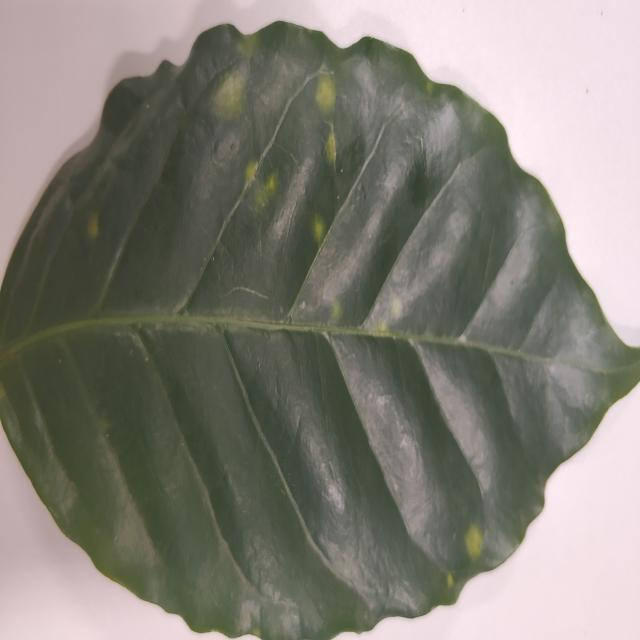Enfermedad-Roya: (0, 21, 640, 640)
